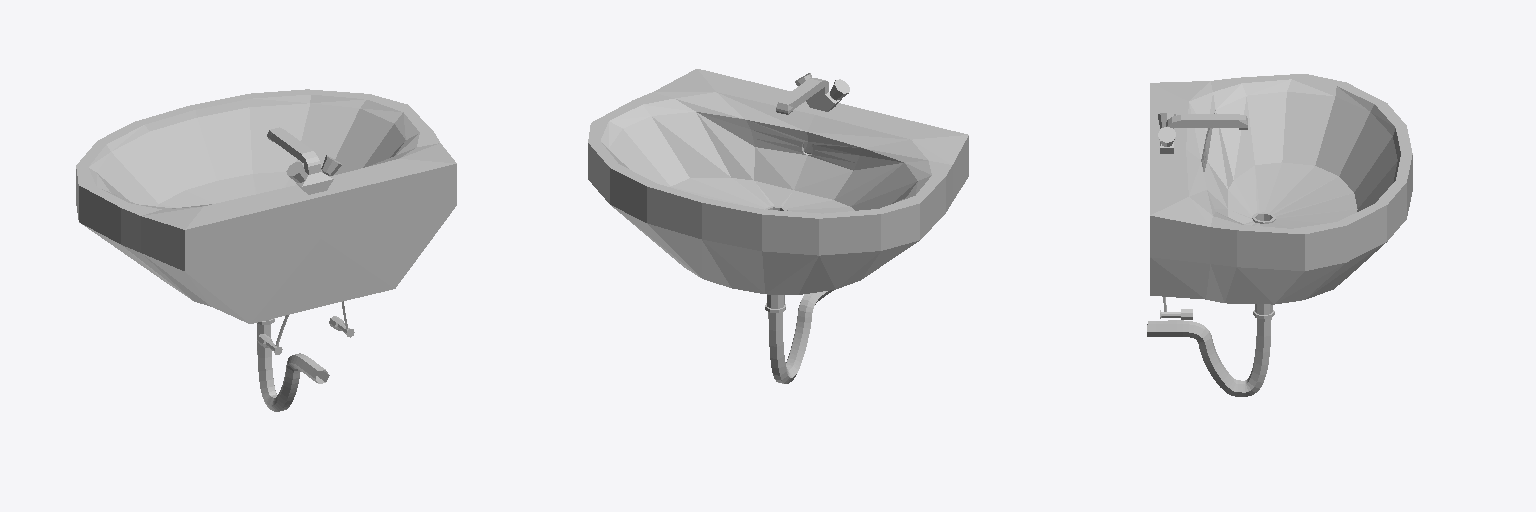
The model's file is Waschbecken.obj.
3 renders of one model, left to right at view 1: azimuth 30°, elevation 25°; view 2: azimuth 150°, elevation 25°; view 3: azimuth 270°, elevation 25°, orthographic.
Parts seen in each view (by area): view 1: Cylinder, Cylinder.003; view 2: Cylinder, Cylinder.003; view 3: Cylinder, Cylinder.003.
Part boxes in pixels (x1,y1,x2,y2): Cylinder: (76, 89, 456, 323); Cylinder.003: (257, 127, 354, 411); Cylinder: (588, 69, 968, 294); Cylinder.003: (765, 73, 849, 383); Cylinder: (1150, 74, 1412, 304); Cylinder.003: (1147, 113, 1275, 396).
Size of the model in its own units: 3.97 by 3.21 by 2.77.